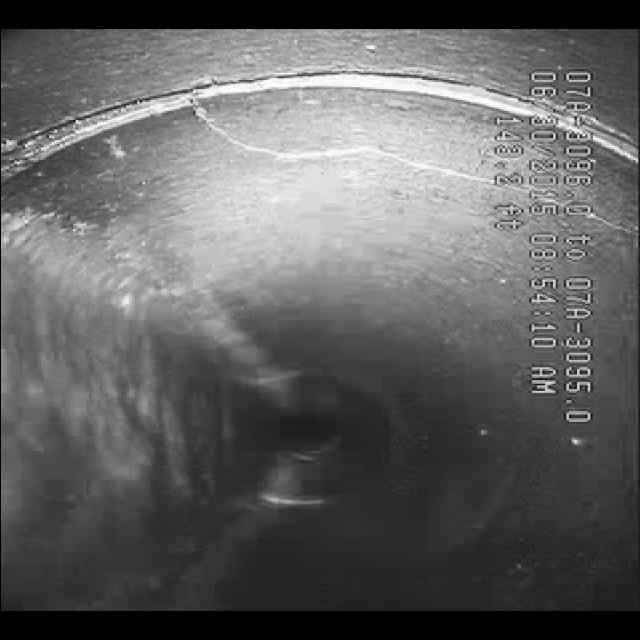Crack: (188, 99, 482, 204)
